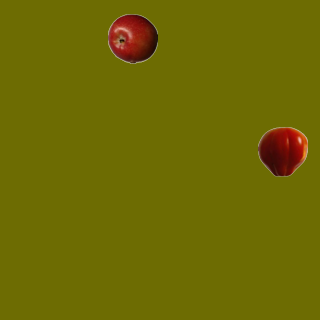Apple Braeburn: (107, 13, 157, 63)
Tomato 1: (257, 126, 307, 176)
